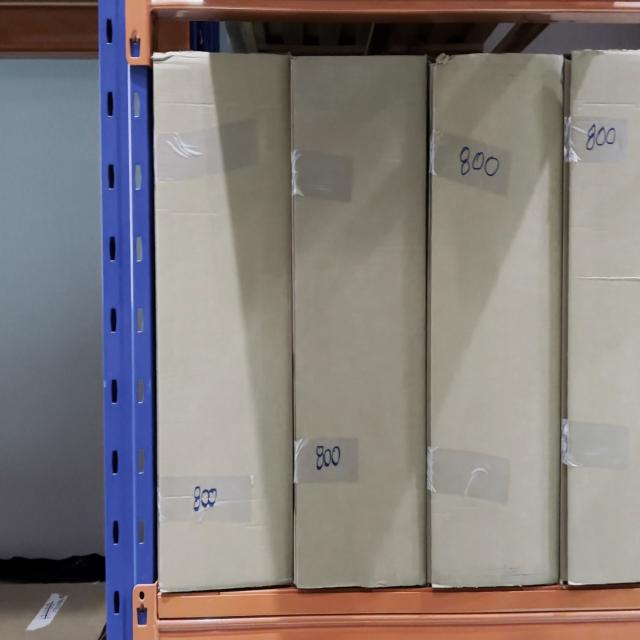box: (157, 56, 293, 591), (296, 60, 424, 583), (439, 63, 558, 584)
